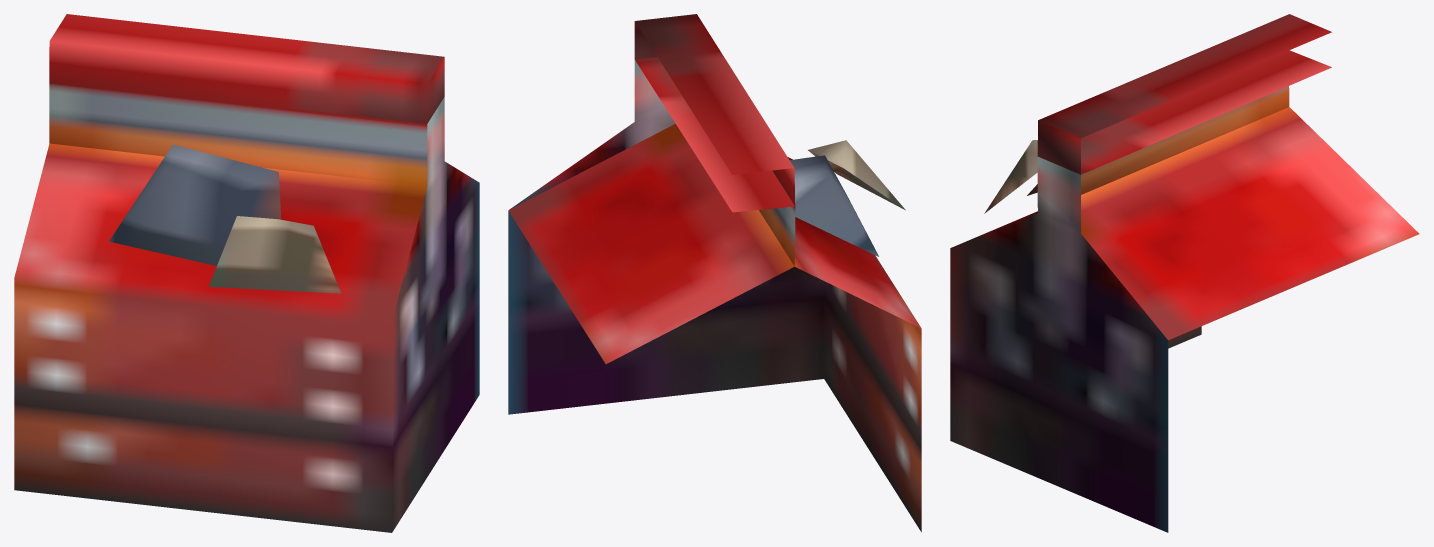
The model's file is fg_toolbox_D_out.dae.
3 renders of one model, left to right at view 1: azimuth 30°, elevation 25°; view 2: azimuth 150°, elevation 25°; view 3: azimuth 270°, elevation 25°, orthographic. The views are drawn at different scales.
Parts seen in each view (by area): view 1: fg_toolbox_D_out; view 2: fg_toolbox_D_out; view 3: fg_toolbox_D_out.
Boxes of the visible parts, x1,y1,x2,y2 form: fg_toolbox_D_out: (14, 14, 479, 532); fg_toolbox_D_out: (508, 14, 921, 532); fg_toolbox_D_out: (950, 14, 1419, 532).
Size of the model in its own units: 19.8 by 16.64 by 19.8.
1 material, 1 textured.
